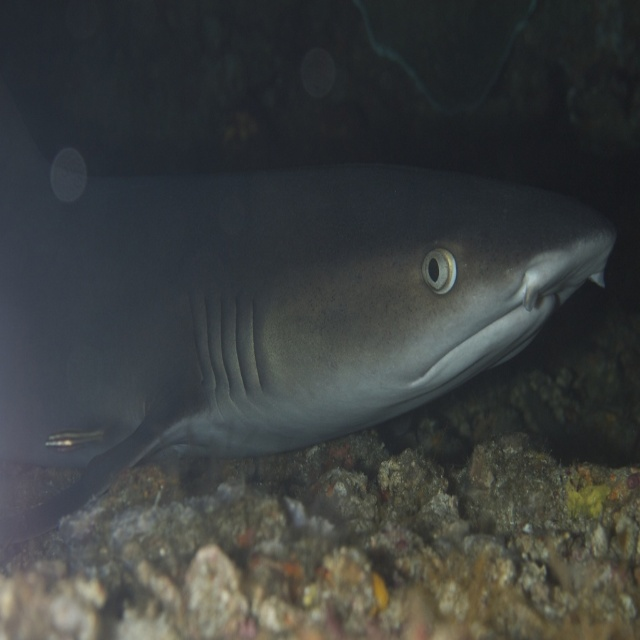Shark: (0, 163, 613, 540)
